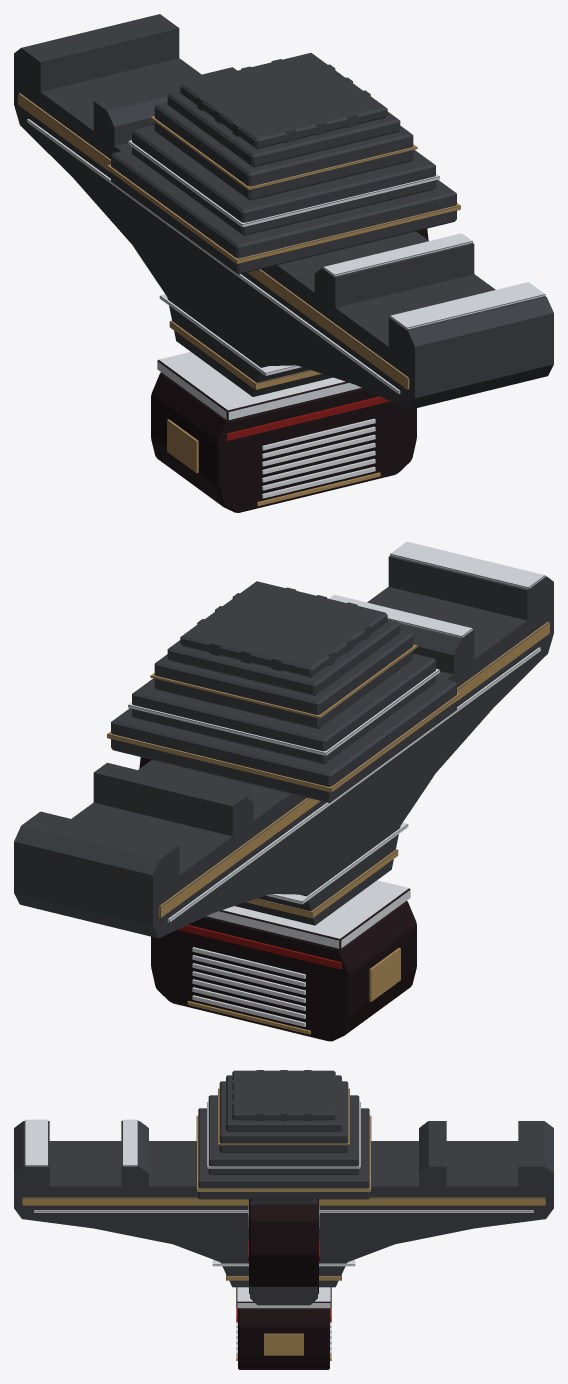
Rendered from monorail_track.fc19f21a.glb.
The picture shows the model from 3 angles, top to bottom: view 1: azimuth 30°, elevation 25°; view 2: azimuth 150°, elevation 25°; view 3: azimuth 270°, elevation 25°; orthographic projection. The views are drawn at different scales.
Visible parts, largest first — view 1: pylon_head, pylon_plinth, switch_box, pylon_shaft; view 2: pylon_head, pylon_plinth, switch_box, pylon_shaft; view 3: pylon_head, pylon_plinth, switch_box, beam_end, beam_unit.
Part boxes in pixels (<box>): pylon_head: <box>14,14,553,409</box>; pylon_plinth: <box>107,53,460,274</box>; switch_box: <box>151,351,416,512</box>; pylon_shaft: <box>197,59,370,142</box>; pylon_head: <box>14,541,553,938</box>; pylon_plinth: <box>107,581,460,802</box>; switch_box: <box>151,880,416,1041</box>; pylon_shaft: <box>197,587,370,671</box>; pylon_head: <box>14,1119,553,1287</box>; pylon_plinth: <box>196,1070,371,1199</box>; switch_box: <box>236,1287,331,1369</box>; beam_end: <box>248,1199,319,1293</box>; beam_unit: <box>248,1199,319,1305</box>.
Size of what is drawn, in the model's own units: 2.3 by 3.5 by 6.8.
